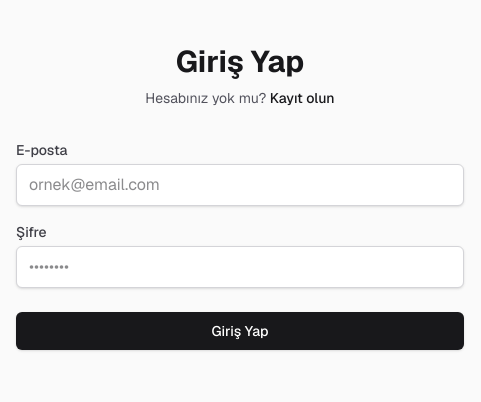
Test case: authentication pages › shows sign-in errors from Error instances
Type "user@example.com" into the field labelled "E-posta".
click(240, 185); type("user@example.com")  # box [16,164,464,206]
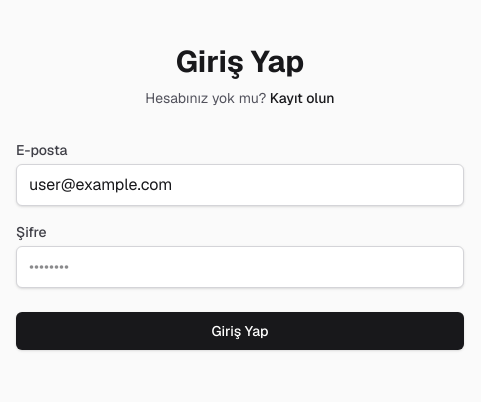
Type "secret123" into the password field labelled "Şifre".
click(240, 267); type("secret123")  # box [16,246,464,288]
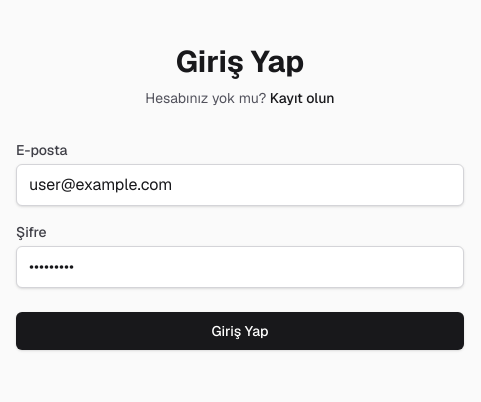
Click the button "Giriş Yap".
click(240, 331)  # box [16,312,464,350]
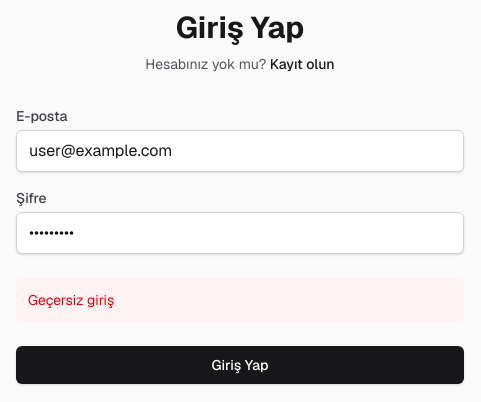
Check: the text "Geçersiz giriş" is shown, box [16,278,464,322]
